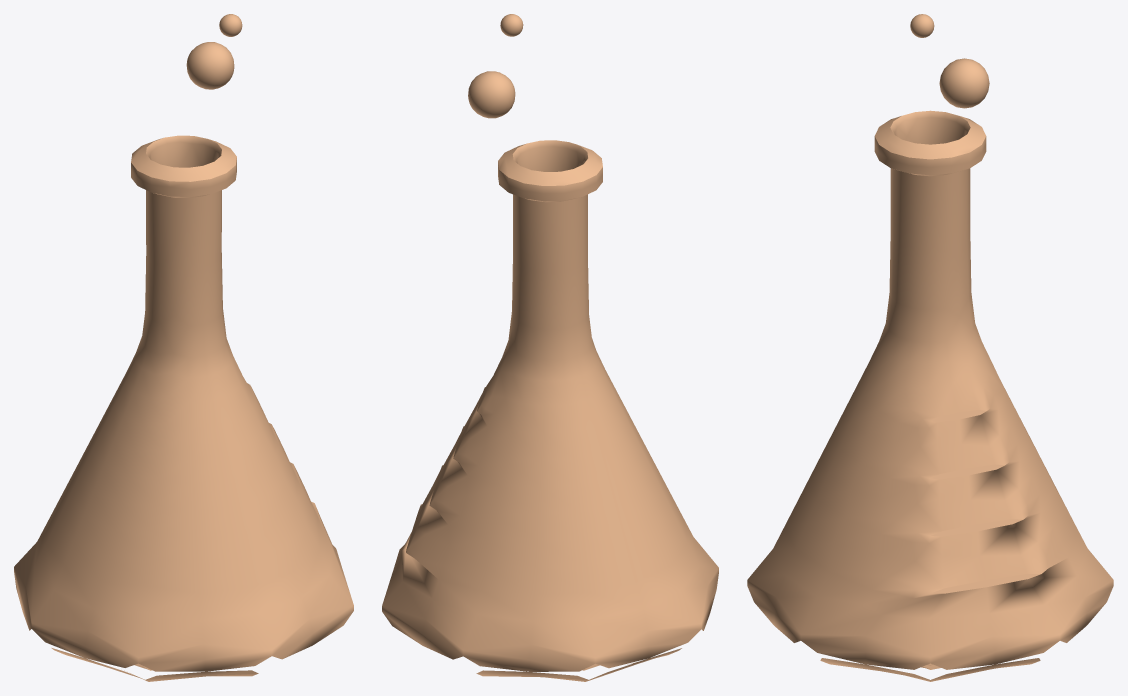
File: chemistry.glb
3 renders of one model, left to right at view 1: azimuth 30°, elevation 25°; view 2: azimuth 150°, elevation 25°; view 3: azimuth 270°, elevation 25°, orthographic. The views are drawn at different scales.
Visible parts, largest first — view 1: Beaker_Icosphere; view 2: Beaker_Icosphere; view 3: Beaker_Icosphere.
Boxes of the visible parts, left/top/right/bottom form: Beaker_Icosphere: left=14, top=14, right=353, bottom=681; Beaker_Icosphere: left=382, top=14, right=718, bottom=681; Beaker_Icosphere: left=747, top=14, right=1113, bottom=681.
Bounding box in the file's own units: 0.5217 × 1 × 0.5217.
